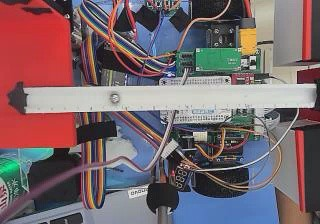ironball: (108, 93, 118, 102)
